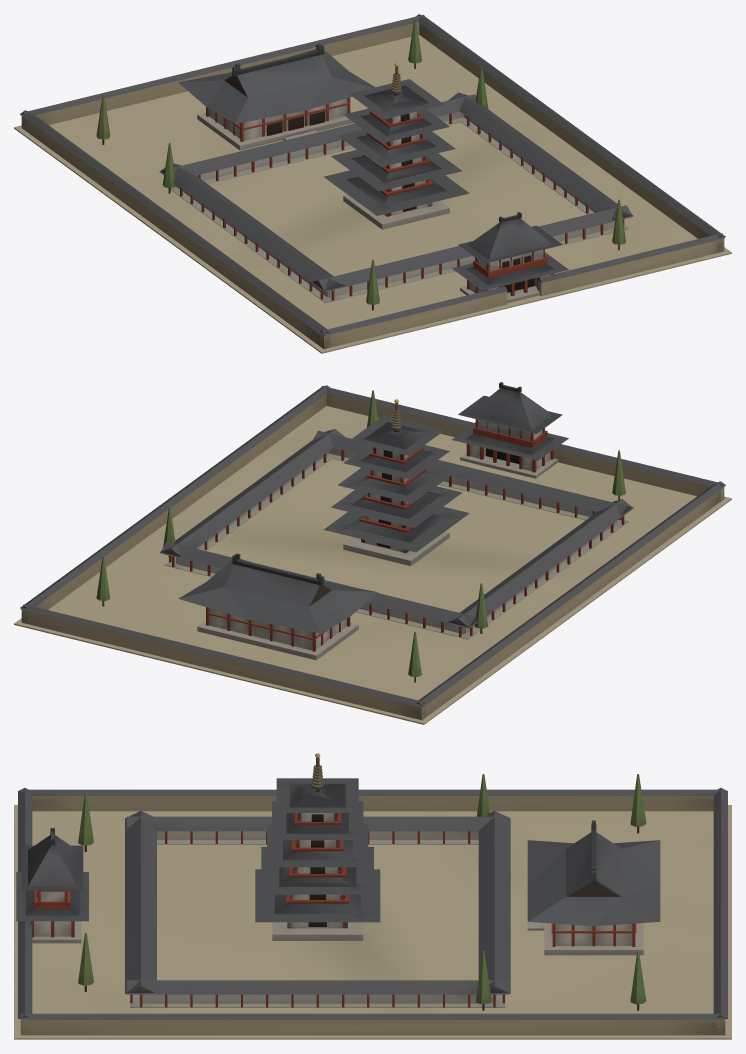
The model's file is wei-monastery.glb.
3 renders of one model, top to bottom at view 1: azimuth 30°, elevation 25°; view 2: azimuth 150°, elevation 25°; view 3: azimuth 270°, elevation 25°, orthographic. The views are drawn at different scales.
Visible parts, largest first — view 1: p0_cloister, p1_halls, p2_trees; view 2: p0_cloister, p1_halls, p2_trees; view 3: p0_cloister, p1_halls, p2_trees.
Part boxes in pixels (x1,y1,x2,y2): p0_cloister: [14, 14, 731, 353]; p1_halls: [197, 63, 553, 303]; p2_trees: [96, 18, 625, 310]; p0_cloister: [14, 385, 731, 724]; p1_halls: [197, 399, 558, 660]; p2_trees: [96, 382, 625, 682]; p0_cloister: [14, 788, 731, 1039]; p1_halls: [30, 753, 643, 955]; p2_trees: [16, 774, 660, 1010].
Size of the model in its own units: 100 by 33.89 by 130.
